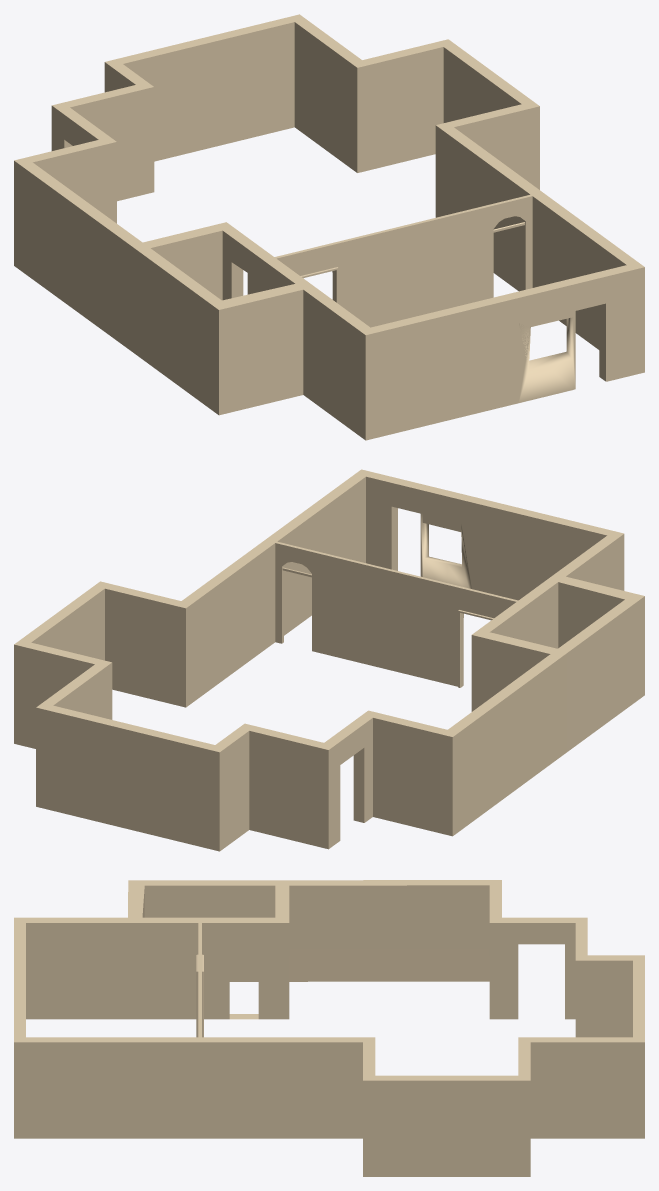
Rendered from Restaurant_Walls_NoTextures.fbx.
3 views of the same model, one above another, from view 1: azimuth 30°, elevation 25°; view 2: azimuth 150°, elevation 25°; view 3: azimuth 270°, elevation 25° (orthographic). The views are drawn at different scales.
Visible parts, largest first — view 1: m_Walls; view 2: m_Walls; view 3: m_Walls.
Part boxes in pixels (x1,y1,x2,y2): m_Walls: [14, 14, 644, 440]; m_Walls: [14, 469, 644, 851]; m_Walls: [14, 880, 644, 1176].
Size of the model in its own units: 3500 by 783 by 4651.
